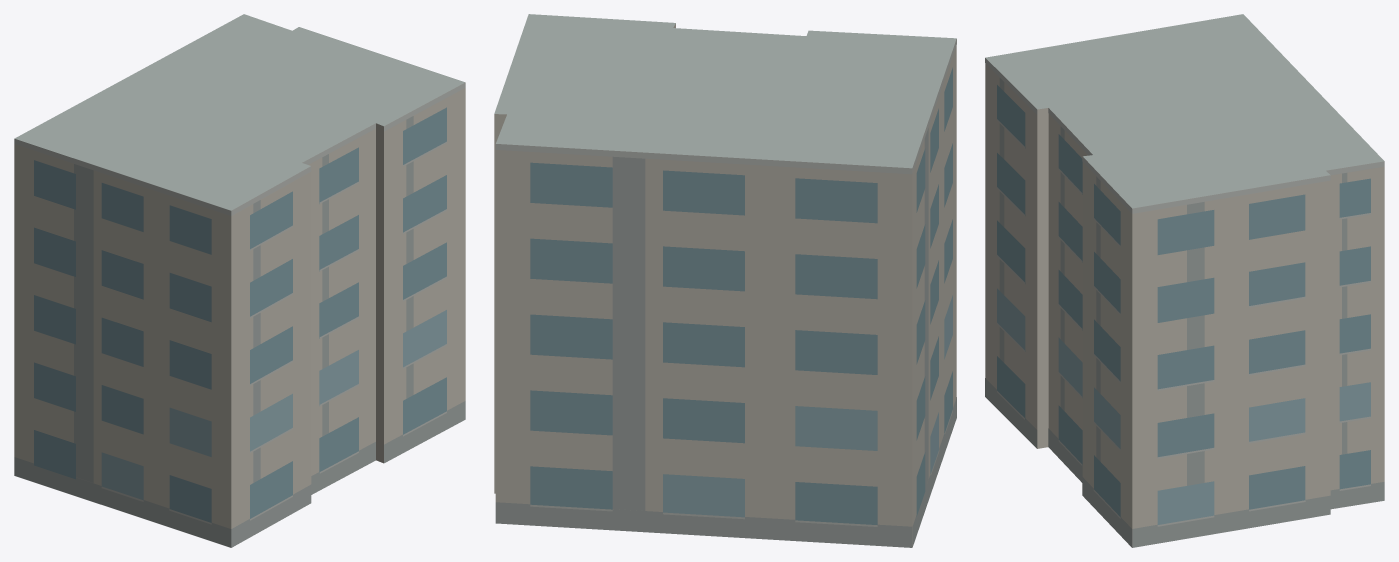
Rendered from survey-upis-32976008.glb.
3 views of the same model, side by side, from view 1: azimuth 30°, elevation 25°; view 2: azimuth 150°, elevation 25°; view 3: azimuth 270°, elevation 25° (orthographic). The views are drawn at different scales.
Visible parts, largest first — view 1: survey-upis-32976008.tmp; view 2: survey-upis-32976008.tmp; view 3: survey-upis-32976008.tmp.
Boxes of the visible parts, left/top/right/bottom form: survey-upis-32976008.tmp: left=14, top=14, right=465, bottom=547; survey-upis-32976008.tmp: left=494, top=14, right=956, bottom=547; survey-upis-32976008.tmp: left=985, top=14, right=1384, bottom=547.
Size of the model in its own units: 18.76 by 15.25 by 16.28.
